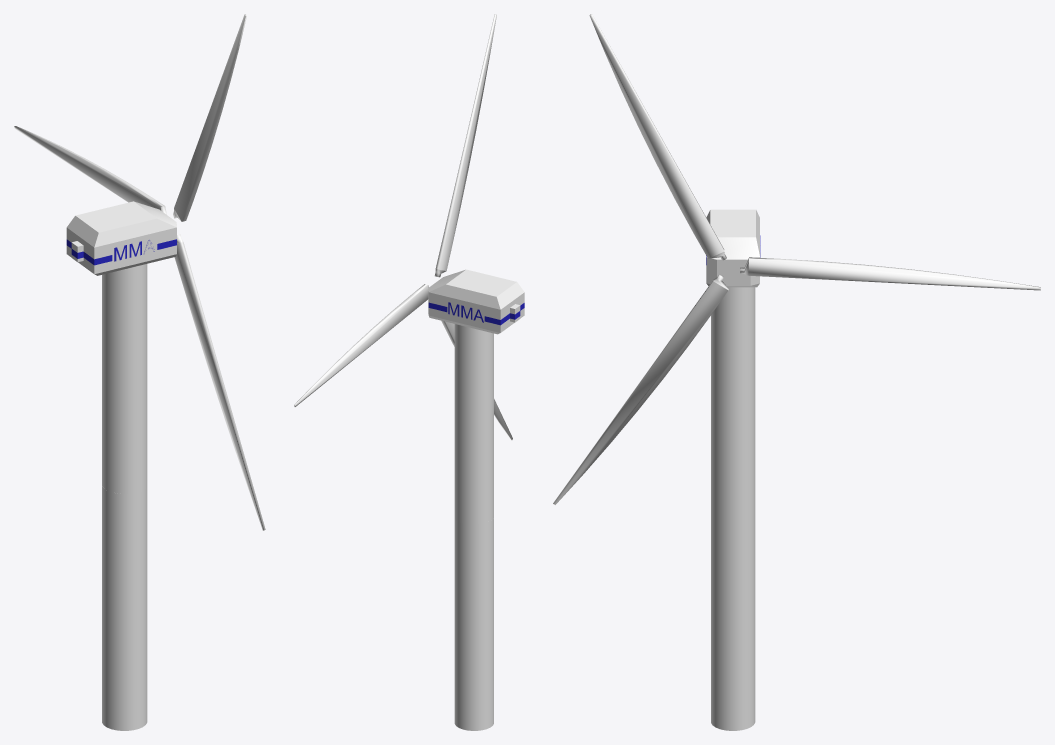
Rendered from windturbine3.dae.
The picture shows the model from 3 angles, left to right: view 1: azimuth 30°, elevation 25°; view 2: azimuth 150°, elevation 25°; view 3: azimuth 270°, elevation 25°; orthographic projection. The views are drawn at different scales.
Visible parts, largest first — view 1: Mast, Mast1, Model, rotorblad2, rotorblad1, rotorblad3; view 2: Mast, Mast1, Model, rotorblad1, rotorblad3, rotorblad2; view 3: Mast, Mast1, rotorblad3, rotorblad2, rotorblad1, Model.
Boxes of the visible parts, x1,y1,x2,y2 form: Mast: (102,486,147,730); Mast1: (102,264,147,493); Model: (66,201,176,275); rotorblad2: (174,234,265,530); rotorblad1: (173,14,246,221); rotorblad3: (14,126,166,214); Mast: (454,517,493,730); Mast1: (454,324,493,524); Model: (428,269,524,334); rotorblad1: (434,14,496,277); rotorblad3: (294,284,428,406); rotorblad2: (441,320,512,440); Mast: (711,492,755,730); Mast1: (711,287,755,500); rotorblad3: (740,257,1040,290); rotorblad2: (553,274,728,504); rotorblad1: (589,14,726,260); Model: (706,209,759,287).
Size of the model in its own units: 10.09 by 44.17 by 72.97.
